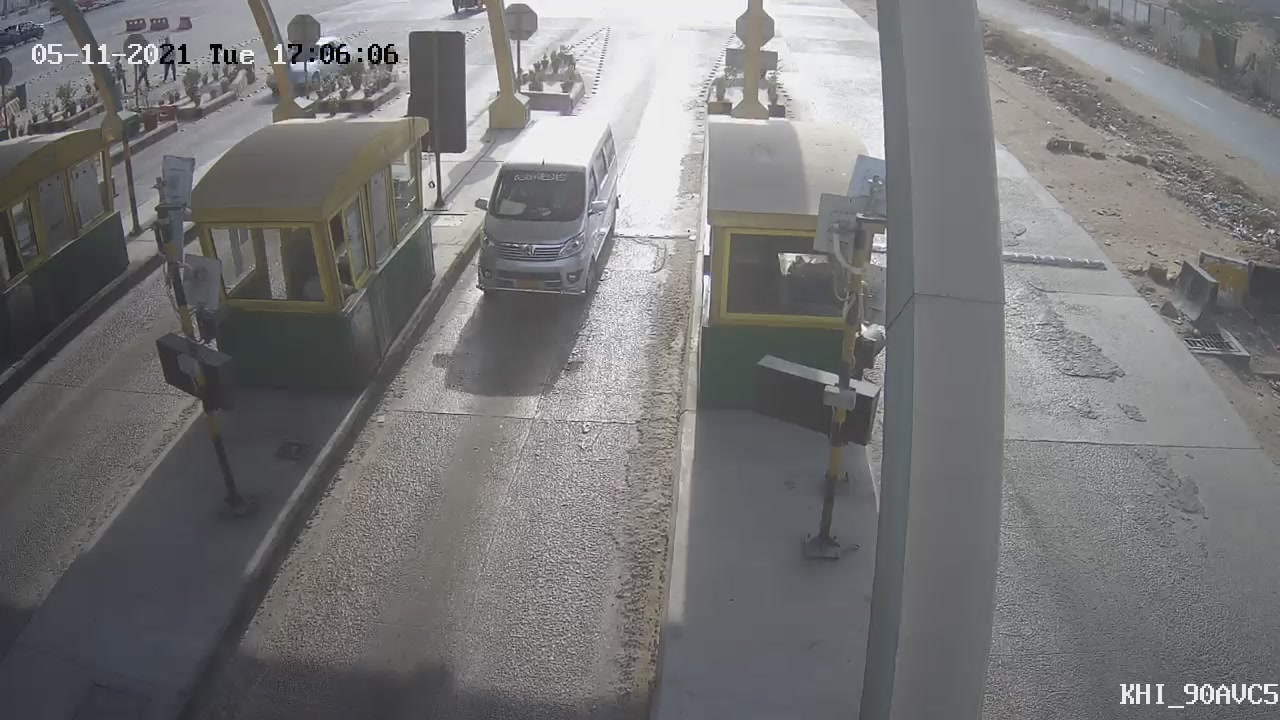F1: (453, 104, 630, 326)
